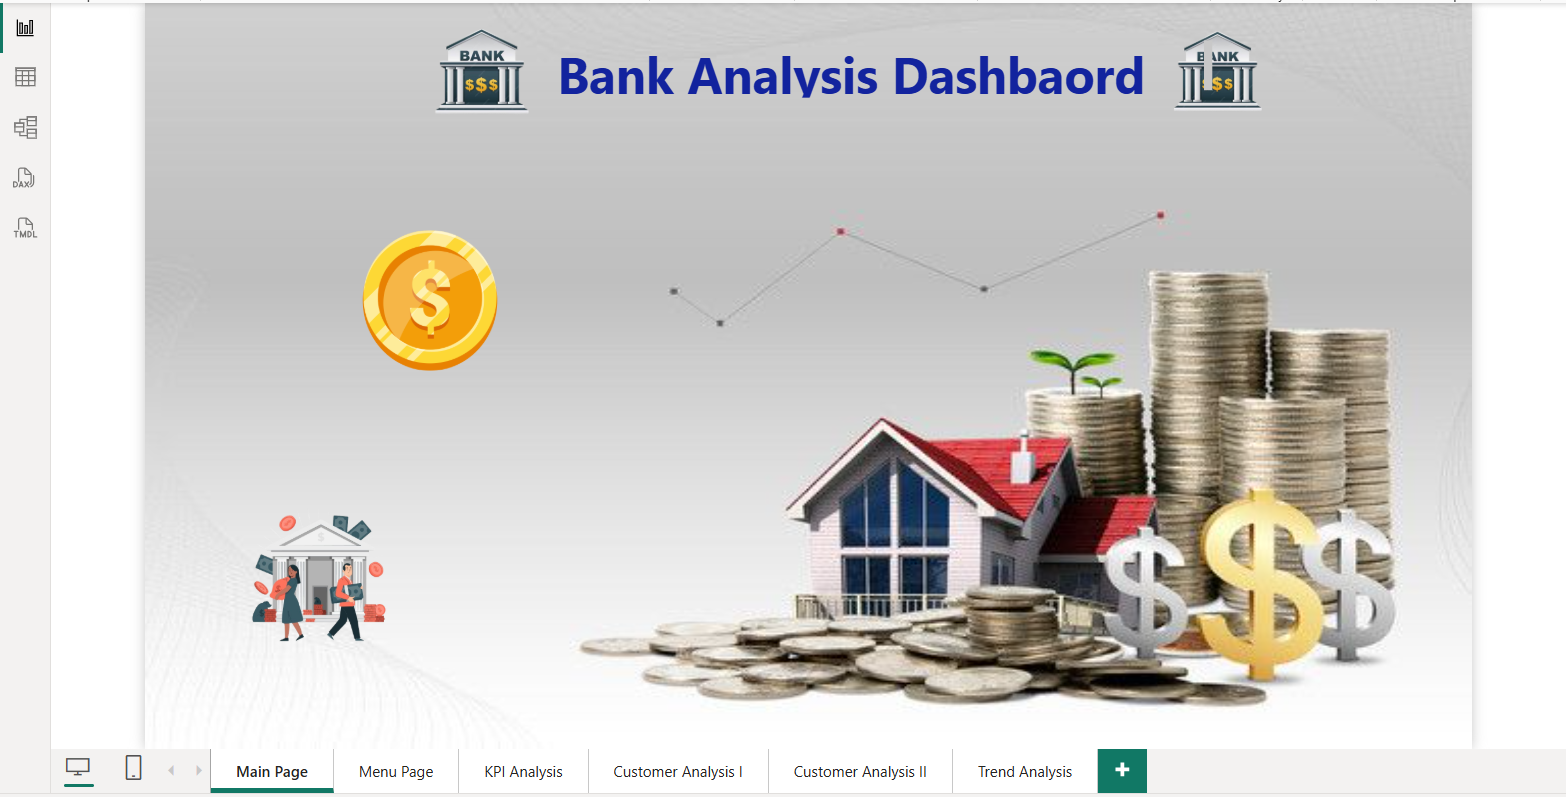

The dashboard page shown, as its layout file describes it:
{"tool":"powerbi","page":{"name":"Main Page","canvas":[1280,720],"ordinal":0},"visuals":[{"type":"image","box":[202.7,214.7,144.8,144.8],"z":0},{"type":"image","box":[257,0,136.3,127.9],"z":1000},{"type":"image","box":[971.2,0,127.9,127.9],"z":2000},{"type":"image","box":[91.7,477.8,150.8,149.6],"z":3000},{"type":"textbox","box":[393.3,31.4,641.8,76],"z":4000}]}

Visuals, with their boxes on the page's 1280x720 design canvas (x1, y1, x2, y2). These are canvas units, not pixel positions in the 1566x797 screenshot, which may show the page scaled, cropped or inside an application window:
image: region(203, 215, 348, 360)
image: region(257, 0, 393, 128)
image: region(971, 0, 1099, 128)
image: region(92, 478, 242, 627)
textbox: region(393, 31, 1035, 107)
